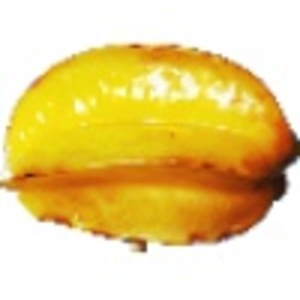carambola: (1, 41, 300, 257)
